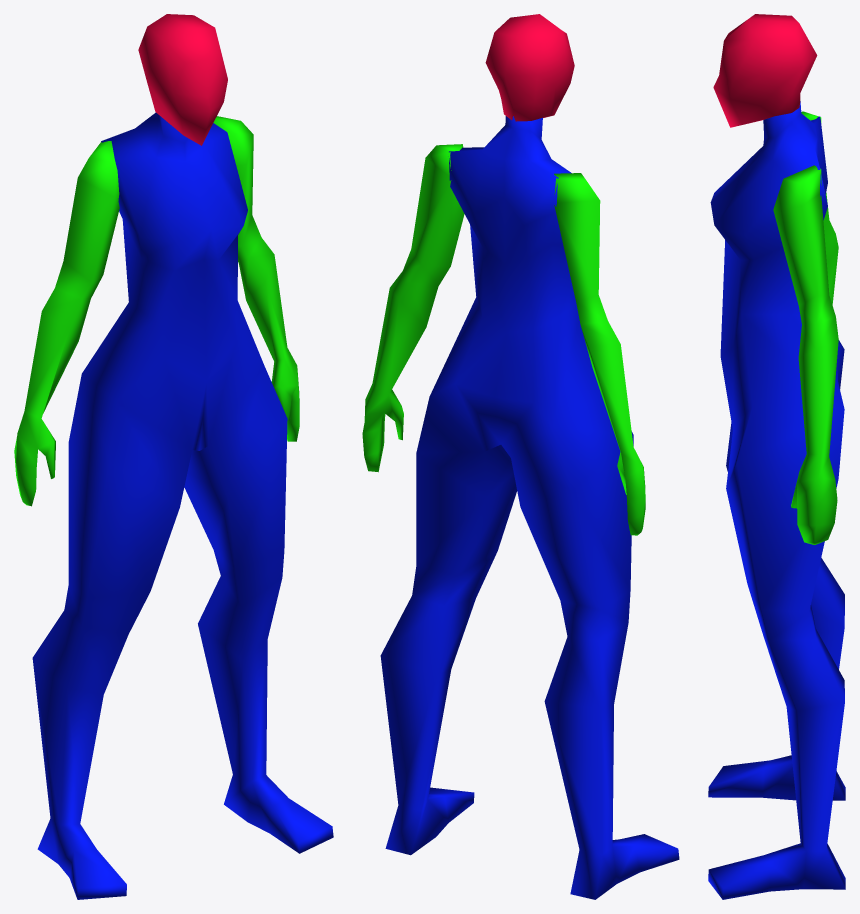
The model's file is PSX_Female_Body.obj.
The picture shows the model from 3 angles, left to right: view 1: azimuth 30°, elevation 25°; view 2: azimuth 150°, elevation 25°; view 3: azimuth 270°, elevation 25°; orthographic projection.
Parts seen in each view (by area): view 1: PSX_Female_Body_Cube.001; view 2: PSX_Female_Body_Cube.001; view 3: PSX_Female_Body_Cube.001.
Part boxes in pixels (x1,y1,x2,y2): PSX_Female_Body_Cube.001: [14, 14, 333, 899]; PSX_Female_Body_Cube.001: [362, 14, 679, 899]; PSX_Female_Body_Cube.001: [708, 14, 845, 899].
Bounding box in the file's own units: 0.6048 × 1.7 × 0.2581.
1 material, 1 textured.
